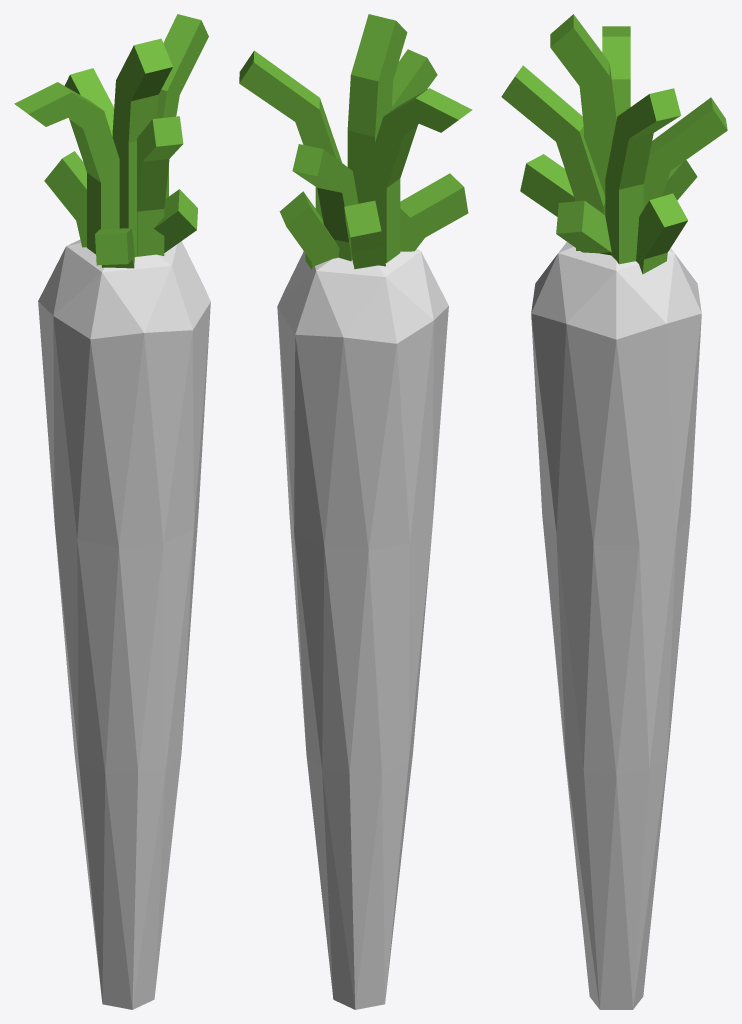
The model's file is carrot.fbx.
The picture shows the model from 3 angles, left to right: view 1: azimuth 30°, elevation 25°; view 2: azimuth 150°, elevation 25°; view 3: azimuth 270°, elevation 25°; orthographic projection.
Visible parts, largest first — view 1: Carrot, Green; view 2: Carrot, Green; view 3: Carrot, Green.
Boxes of the visible parts, <box> form: Carrot: <box>38,240,210,1009</box>; Green: <box>14,14,208,268</box>; Carrot: <box>277,249,448,1009</box>; Green: <box>239,14,472,269</box>; Carrot: <box>531,242,701,1009</box>; Green: <box>501,14,727,274</box>.
Bounding box in the file's own units: 208 × 935 × 194.
